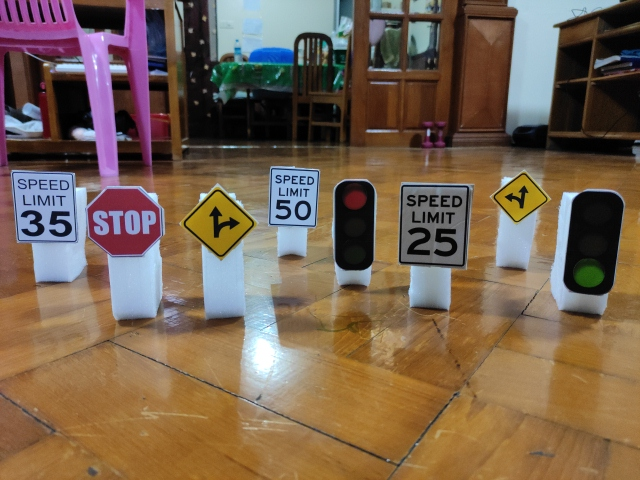Green Traffic Light: (563, 189, 624, 295)
Red Traffic Light: (333, 179, 376, 272)
Speed Limit 25: (398, 182, 473, 269)
Speed Limit 35: (10, 169, 79, 245)
Speed Limit 50: (267, 166, 320, 228)
Stop Sign: (85, 186, 164, 257)
Straight Or Left Sign: (491, 169, 549, 225)
Straight Or Right Sign: (181, 185, 257, 260)
